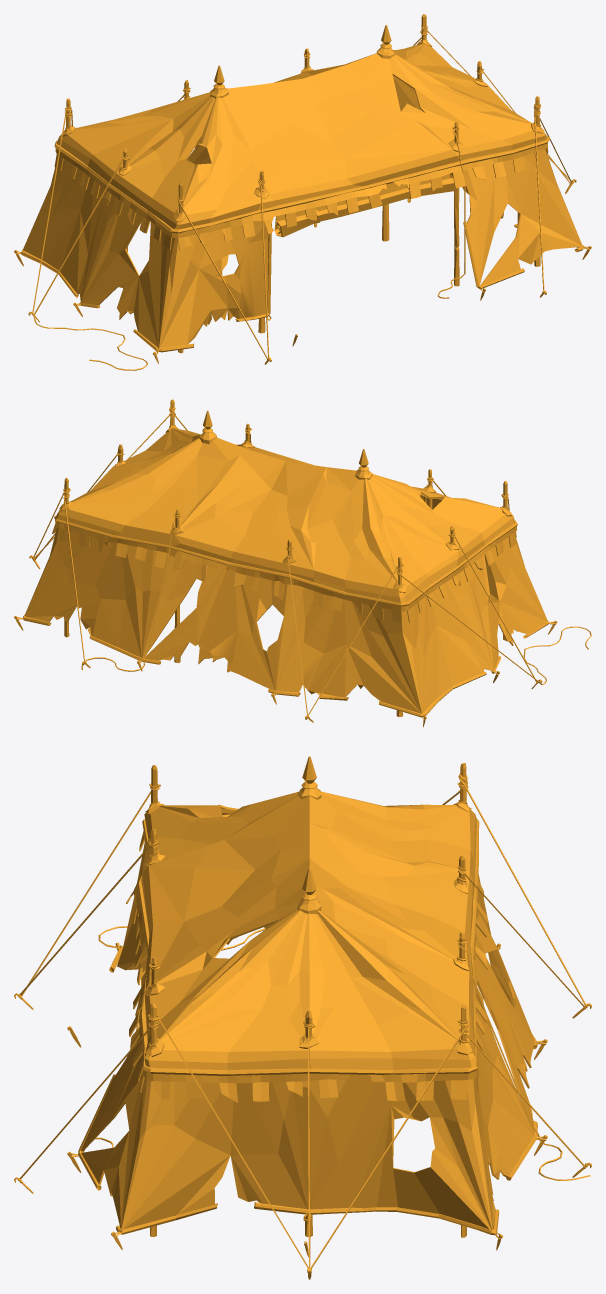
Rendered from SM_Tent_Royal_Plain_Damaged_Fantasy.fbx.
3 views of the same model, one above another, from view 1: azimuth 30°, elevation 25°; view 2: azimuth 150°, elevation 25°; view 3: azimuth 270°, elevation 25° (orthographic). The views are drawn at different scales.
Parts seen in each view (by area): view 1: tent-royal-plain-damaged-fantasy; view 2: tent-royal-plain-damaged-fantasy; view 3: tent-royal-plain-damaged-fantasy.
Boxes of the visible parts, x1=… form: tent-royal-plain-damaged-fantasy: x1=14, y1=14, x2=591, y2=370; tent-royal-plain-damaged-fantasy: x1=14, y1=399, x2=591, y2=727; tent-royal-plain-damaged-fantasy: x1=14, y1=756, x2=591, y2=1279.
Size of the model in its own units: 13.65 by 5.31 by 9.11.
